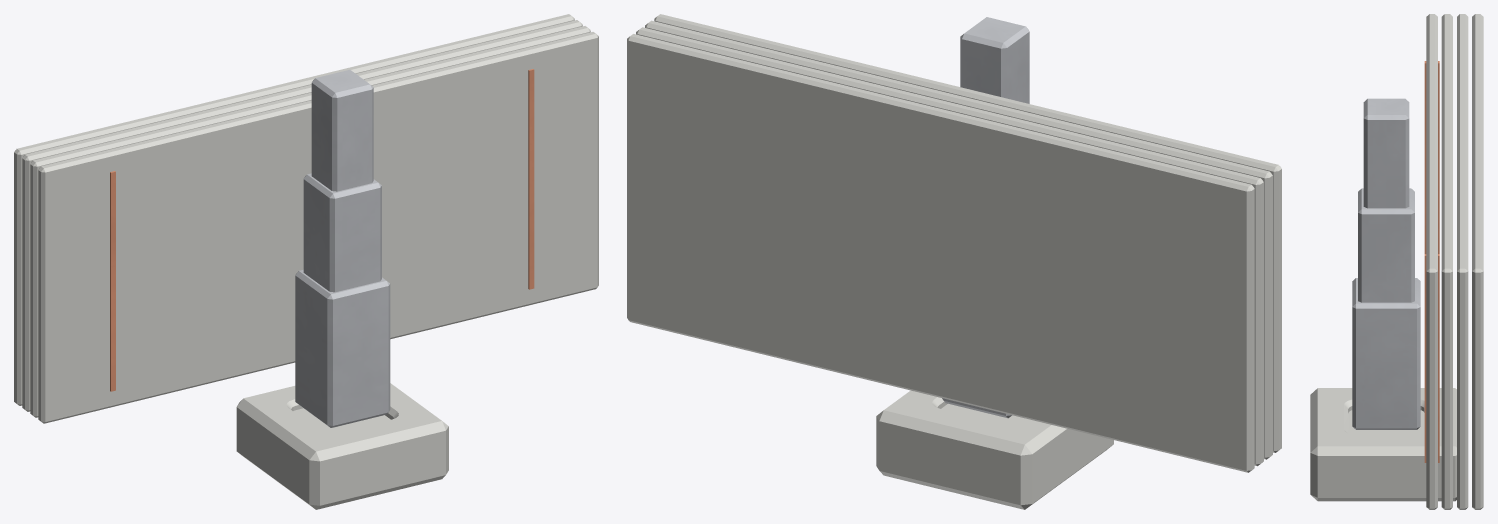
The model's file is ax_power_09_heat_pipe_boom_m.glb.
The picture shows the model from 3 angles, left to right: view 1: azimuth 30°, elevation 25°; view 2: azimuth 150°, elevation 25°; view 3: azimuth 270°, elevation 25°; orthographic projection. The views are drawn at different scales.
Parts seen in each view (by area): view 1: panel_1, boom, mount_block, panel_4, panel_3, panel_2, heat_pipes; view 2: panel_4, mount_block, panel_3, panel_1, panel_2, boom; view 3: boom, mount_block, panel_4, panel_1, panel_2, panel_3, heat_pipes.
Part boxes in pixels (<box>): panel_1: <box>38,32,598,423</box>; boom: <box>295,69,390,427</box>; mount_block: <box>236,383,448,509</box>; panel_4: <box>14,14,574,405</box>; panel_3: <box>22,20,582,411</box>; panel_2: <box>30,26,590,417</box>; heat_pipes: <box>110,69,534,391</box>; panel_4: <box>627,34,1254,472</box>; mount_block: <box>876,390,1113,509</box>; panel_3: <box>636,27,1263,466</box>; panel_1: <box>654,14,1281,452</box>; panel_2: <box>645,20,1272,459</box>; boom: <box>942,17,1029,418</box>; boom: <box>1352,98,1420,429</box>; mount_block: <box>1310,388,1456,501</box>; panel_4: <box>1472,14,1483,509</box>; panel_1: <box>1426,14,1437,509</box>; panel_2: <box>1441,14,1452,509</box>; panel_3: <box>1457,14,1468,509</box>; heat_pipes: <box>1424,61,1439,462</box>.
Size of the model in its own units: 1.6 by 1.06 by 0.455.
3 materials, 2 textured.
